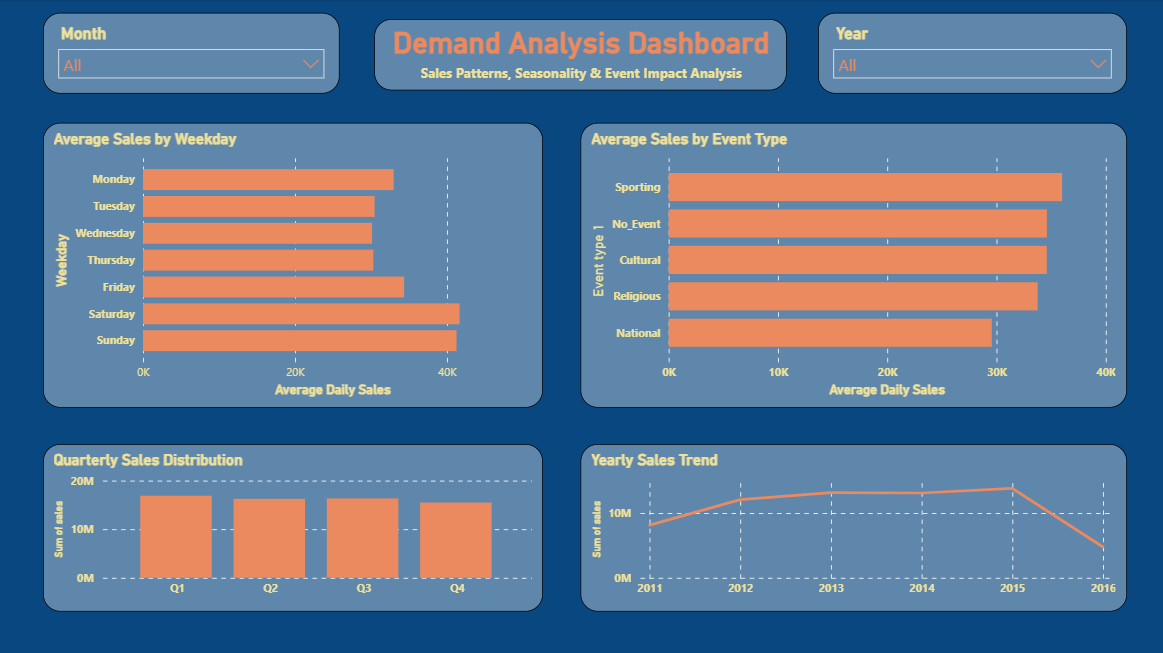

Layout of this report page (visuals, bound fields, positions):
{"tool":"powerbi","page":{"name":"Demand Analysis","canvas":[1280,720],"ordinal":1},"visuals":[{"type":"textbox","title":"Demand Analysis Dashboard","box":[413,22,452.8,78.2],"z":0},{"type":"slicer","fields":{"Values":["feature_engineered_data.month"]},"box":[49.4,15.1,325.2,89.2],"z":1000},{"type":"slicer","fields":{"Values":["feature_engineered_data.year"]},"box":[900.2,15.1,338.9,89.2],"z":2000},{"type":"clusteredBarChart","title":"Average Sales by Weekday","fields":{"Y":["feature_engineered_data.Average Daily Sales"],"Category":["feature_engineered_data.Weekday Name"]},"box":[49.4,135.8,548.9,312.9],"z":3000},{"type":"clusteredColumnChart","title":"Quarterly Sales Distribution","fields":{"Y":["Sum(feature_engineered_data.sales)"],"Category":["feature_engineered_data.Quarter Name"]},"box":[49.4,488.5,548.9,183.9],"z":4000},{"type":"lineChart","title":"Yearly Sales Trend","fields":{"Category":["feature_engineered_data.year"],"Y":["Sum(feature_engineered_data.sales)"]},"box":[639.5,488.5,599.7,183.9],"z":5000},{"type":"clusteredBarChart","title":"Average Sales by Event Type","fields":{"Category":["feature_engineered_data.event_type_1"],"Y":["feature_engineered_data.Average Daily Sales"]},"box":[639.5,135.8,599.7,312.9],"z":6000}]}

Visuals, with their boxes in screenshot pixels (x1, y1, x2, y2), scaled from the page's 1280x720 canvas onto the 1163x653 screenshot:
"Demand Analysis Dashboard" textbox: 375/20/787/91
slicer - feature_engineered_data.month: 45/14/340/95
slicer - feature_engineered_data.year: 818/14/1126/95
"Average Sales by Weekday" clusteredBarChart: 45/123/544/407
"Quarterly Sales Distribution" clusteredColumnChart: 45/443/544/610
"Yearly Sales Trend" lineChart: 581/443/1126/610
"Average Sales by Event Type" clusteredBarChart: 581/123/1126/407
